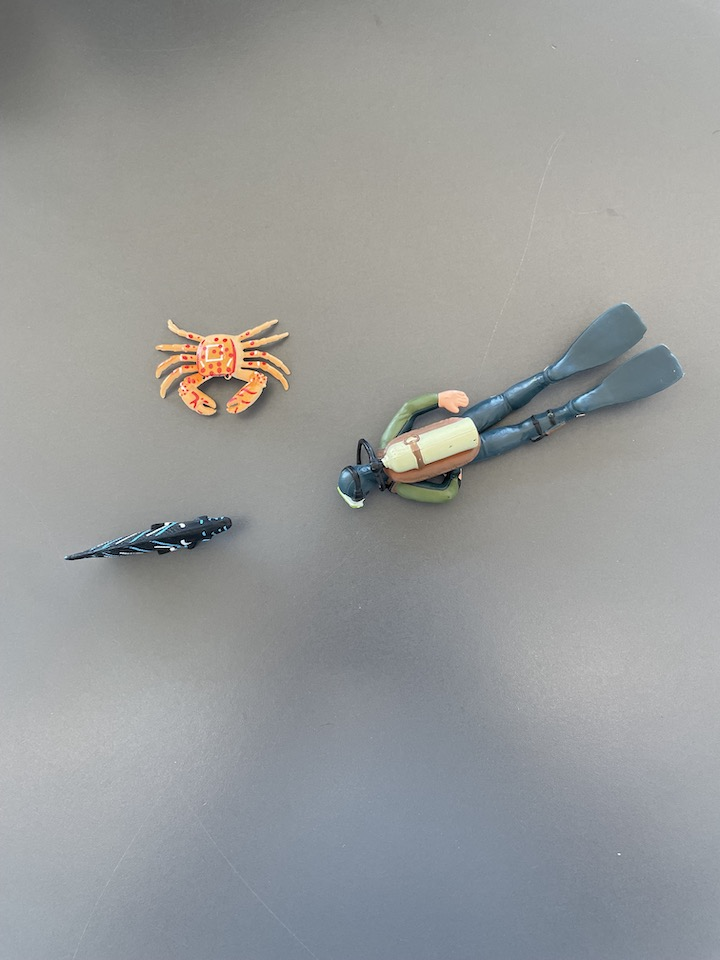crab: (152, 320, 298, 422)
diver: (329, 298, 690, 514)
fish: (62, 510, 243, 566)
